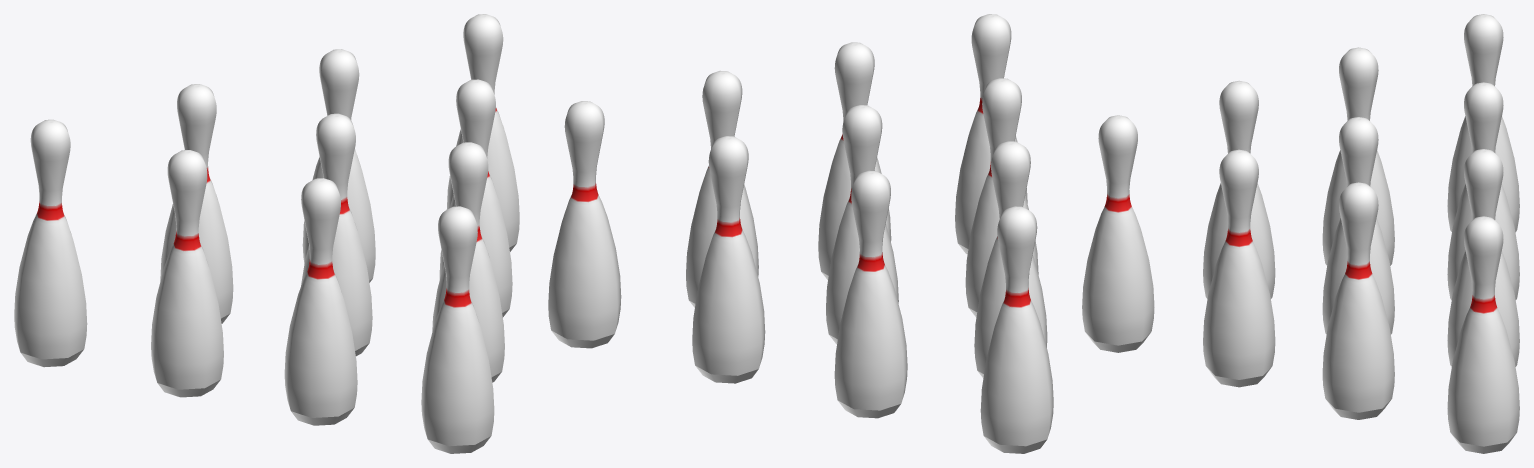
The model's file is pins.fbx.
3 renders of one model, left to right at view 1: azimuth 30°, elevation 25°; view 2: azimuth 150°, elevation 25°; view 3: azimuth 270°, elevation 25°, orthographic. The views are drawn at different scales.
Parts seen in each view (by area): view 1: Bowling_Pin_9, Bowling_Pin_6, Bowling_Pin_7, Bowling_Pin, Bowling_Pin_5, Bowling_Pin_8, Bowling_Pin_1, Bowling_Pin_3, Bowling_Pin_4, Bowling_Pin_2; view 2: Bowling_Pin_3, Bowling_Pin_2, Bowling_Pin_1, Bowling_Pin, Bowling_Pin_5, Bowling_Pin_6, Bowling_Pin_4, Bowling_Pin_9, Bowling_Pin_7, Bowling_Pin_8; view 3: Bowling_Pin_4, Bowling_Pin_9, Bowling_Pin_3, Bowling_Pin_8, Bowling_Pin_7, Bowling_Pin_2, Bowling_Pin_5, Bowling_Pin_6, Bowling_Pin, Bowling_Pin_1.
Part boxes in pixels (left/top/right/bottom): Bowling_Pin_9: left=421, top=206, right=494, bottom=453; Bowling_Pin_6: left=151, top=150, right=223, bottom=397; Bowling_Pin_7: left=284, top=178, right=357, bottom=425; Bowling_Pin: left=14, top=119, right=87, bottom=367; Bowling_Pin_5: left=301, top=113, right=372, bottom=356; Bowling_Pin_8: left=432, top=142, right=504, bottom=382; Bowling_Pin_1: left=160, top=84, right=233, bottom=323; Bowling_Pin_3: left=446, top=14, right=519, bottom=251; Bowling_Pin_4: left=439, top=79, right=512, bottom=317; Bowling_Pin_2: left=302, top=49, right=375, bottom=282; Bowling_Pin_3: left=548, top=101, right=621, bottom=348; Bowling_Pin_2: left=692, top=136, right=765, bottom=383; Bowling_Pin_1: left=834, top=170, right=907, bottom=418; Bowling_Pin: left=980, top=206, right=1053, bottom=453; Bowling_Pin_5: left=826, top=105, right=898, bottom=344; Bowling_Pin_6: left=974, top=141, right=1047, bottom=377; Bowling_Pin_4: left=686, top=70, right=758, bottom=307; Bowling_Pin_9: left=955, top=14, right=1027, bottom=254; Bowling_Pin_7: left=965, top=78, right=1038, bottom=317; Bowling_Pin_8: left=818, top=42, right=891, bottom=279; Bowling_Pin_4: left=1322, top=182, right=1394, bottom=419; Bowling_Pin_9: left=1082, top=115, right=1154, bottom=352; Bowling_Pin_3: left=1447, top=216, right=1519, bottom=453; Bowling_Pin_8: left=1203, top=149, right=1275, bottom=387; Bowling_Pin_7: left=1203, top=80, right=1275, bottom=298; Bowling_Pin_2: left=1447, top=149, right=1519, bottom=366; Bowling_Pin_5: left=1322, top=117, right=1394, bottom=334; Bowling_Pin_6: left=1322, top=47, right=1394, bottom=265; Bowling_Pin: left=1447, top=14, right=1519, bottom=232; Bowling_Pin_1: left=1447, top=82, right=1519, bottom=299.
Size of the model in its own units: 137 by 61.71 by 109.
Materials: 1 (1 with a texture image).
